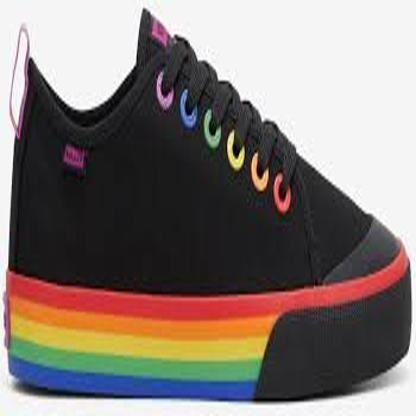not trash: (5, 4, 416, 404)
